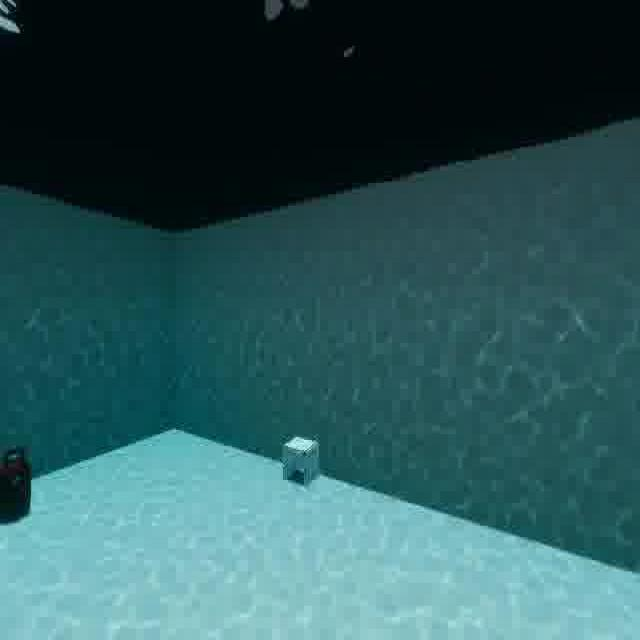Cylinder: (0, 426, 36, 535)
Docking Station: (278, 428, 326, 492)
